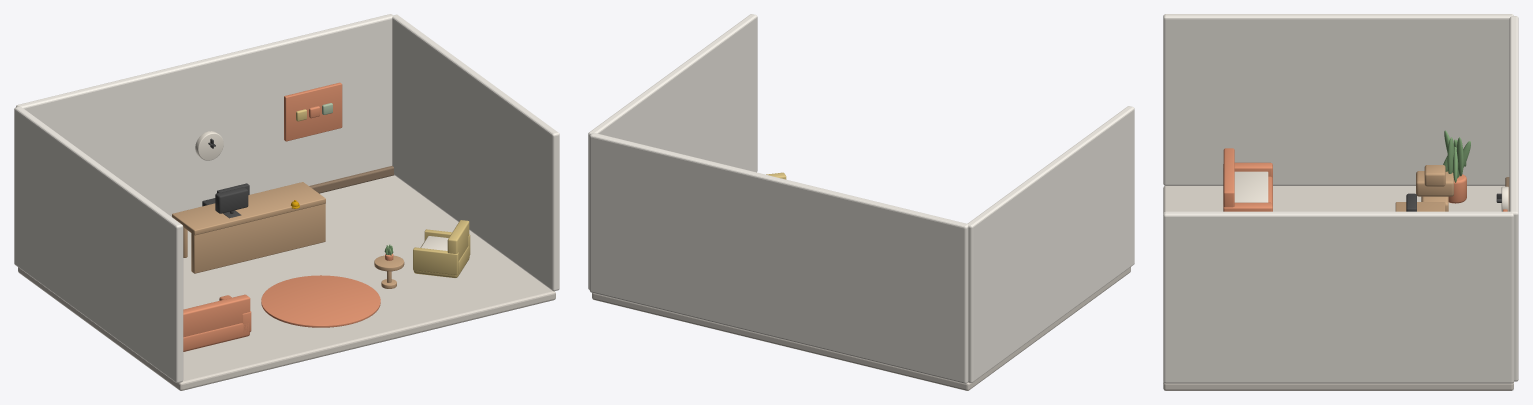
Rendered from room-reception.glb.
3 renders of one model, left to right at view 1: azimuth 30°, elevation 25°; view 2: azimuth 150°, elevation 25°; view 3: azimuth 270°, elevation 25°, orthographic. The views are drawn at different scales.
Parts seen in each view (by area): view 1: room-reception_back, room-reception_floor, room-reception_left, room-reception_right, front, rug, top.007, panel.001, back.002, arm.003, base.002, room-reception_trim (+3 smaller); view 2: room-reception_back, room-reception_left, room-reception_right, room-reception_floor; view 3: room-reception_right, room-reception_left, room-reception_floor, room-reception_back, cushion, back.002, parcel-1.001, parcel-2.001, arm, arm.001, top.007, pot.002.
Part boxes in pixels (bbox=[...]): room-reception_back: bbox=[16, 14, 392, 216]; room-reception_floor: bbox=[18, 175, 555, 390]; room-reception_left: bbox=[14, 106, 183, 383]; room-reception_right: bbox=[392, 14, 559, 291]; front: bbox=[191, 203, 325, 273]; rug: bbox=[261, 275, 380, 327]; top.007: bbox=[172, 182, 325, 235]; panel.001: bbox=[284, 82, 342, 141]; back.002: bbox=[183, 294, 250, 337]; arm.003: bbox=[413, 247, 458, 275]; base.002: bbox=[183, 323, 249, 351]; room-reception_trim: bbox=[309, 166, 394, 193]; room-reception_back: bbox=[589, 133, 968, 383]; room-reception_left: bbox=[967, 106, 1134, 382]; room-reception_right: bbox=[588, 14, 757, 289]; room-reception_floor: bbox=[592, 267, 1130, 390]; room-reception_right: bbox=[1163, 211, 1513, 383]; room-reception_left: bbox=[1163, 14, 1513, 185]; room-reception_floor: bbox=[1163, 186, 1513, 390]; room-reception_back: bbox=[1509, 16, 1518, 381]; cushion: bbox=[1234, 171, 1268, 202]; back.002: bbox=[1223, 148, 1234, 207]; parcel-1.001: bbox=[1416, 171, 1453, 196]; parcel-2.001: bbox=[1424, 165, 1445, 186]; arm: bbox=[1223, 202, 1272, 211]; arm.001: bbox=[1223, 162, 1272, 177]; top.007: bbox=[1395, 202, 1445, 211]; pot.002: bbox=[1448, 174, 1466, 203].
Size of the model in its own units: 8.16 by 3.38 by 6.08.
Materials: 23 (1 with a texture image).
